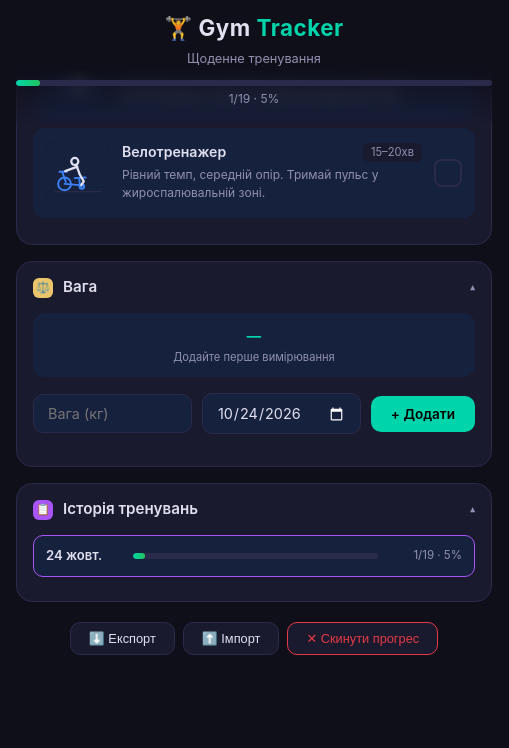
Test: App › exports a backup file
(page scrolled)
What coordinates should you click on to do the following:
click the button with id "btn-export"
I would click on:
 (122, 638)
Its box is [70,622,175,655].
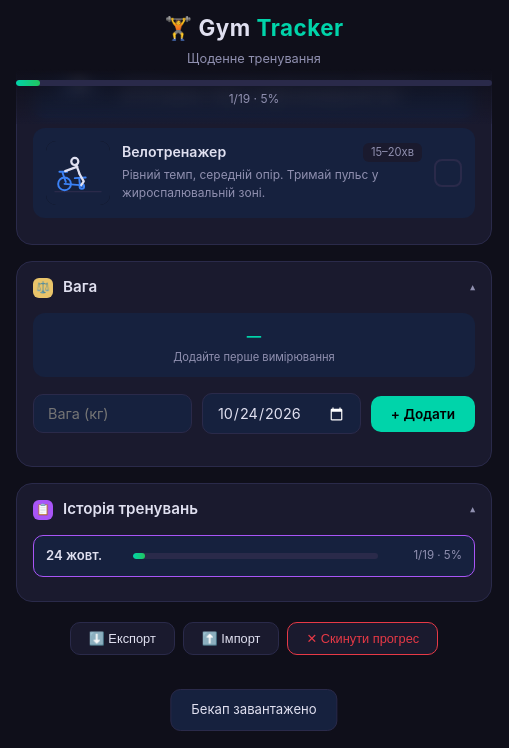
Check: the message with class "toast" reads "Бекап завантажено", box [191,701,317,717]
